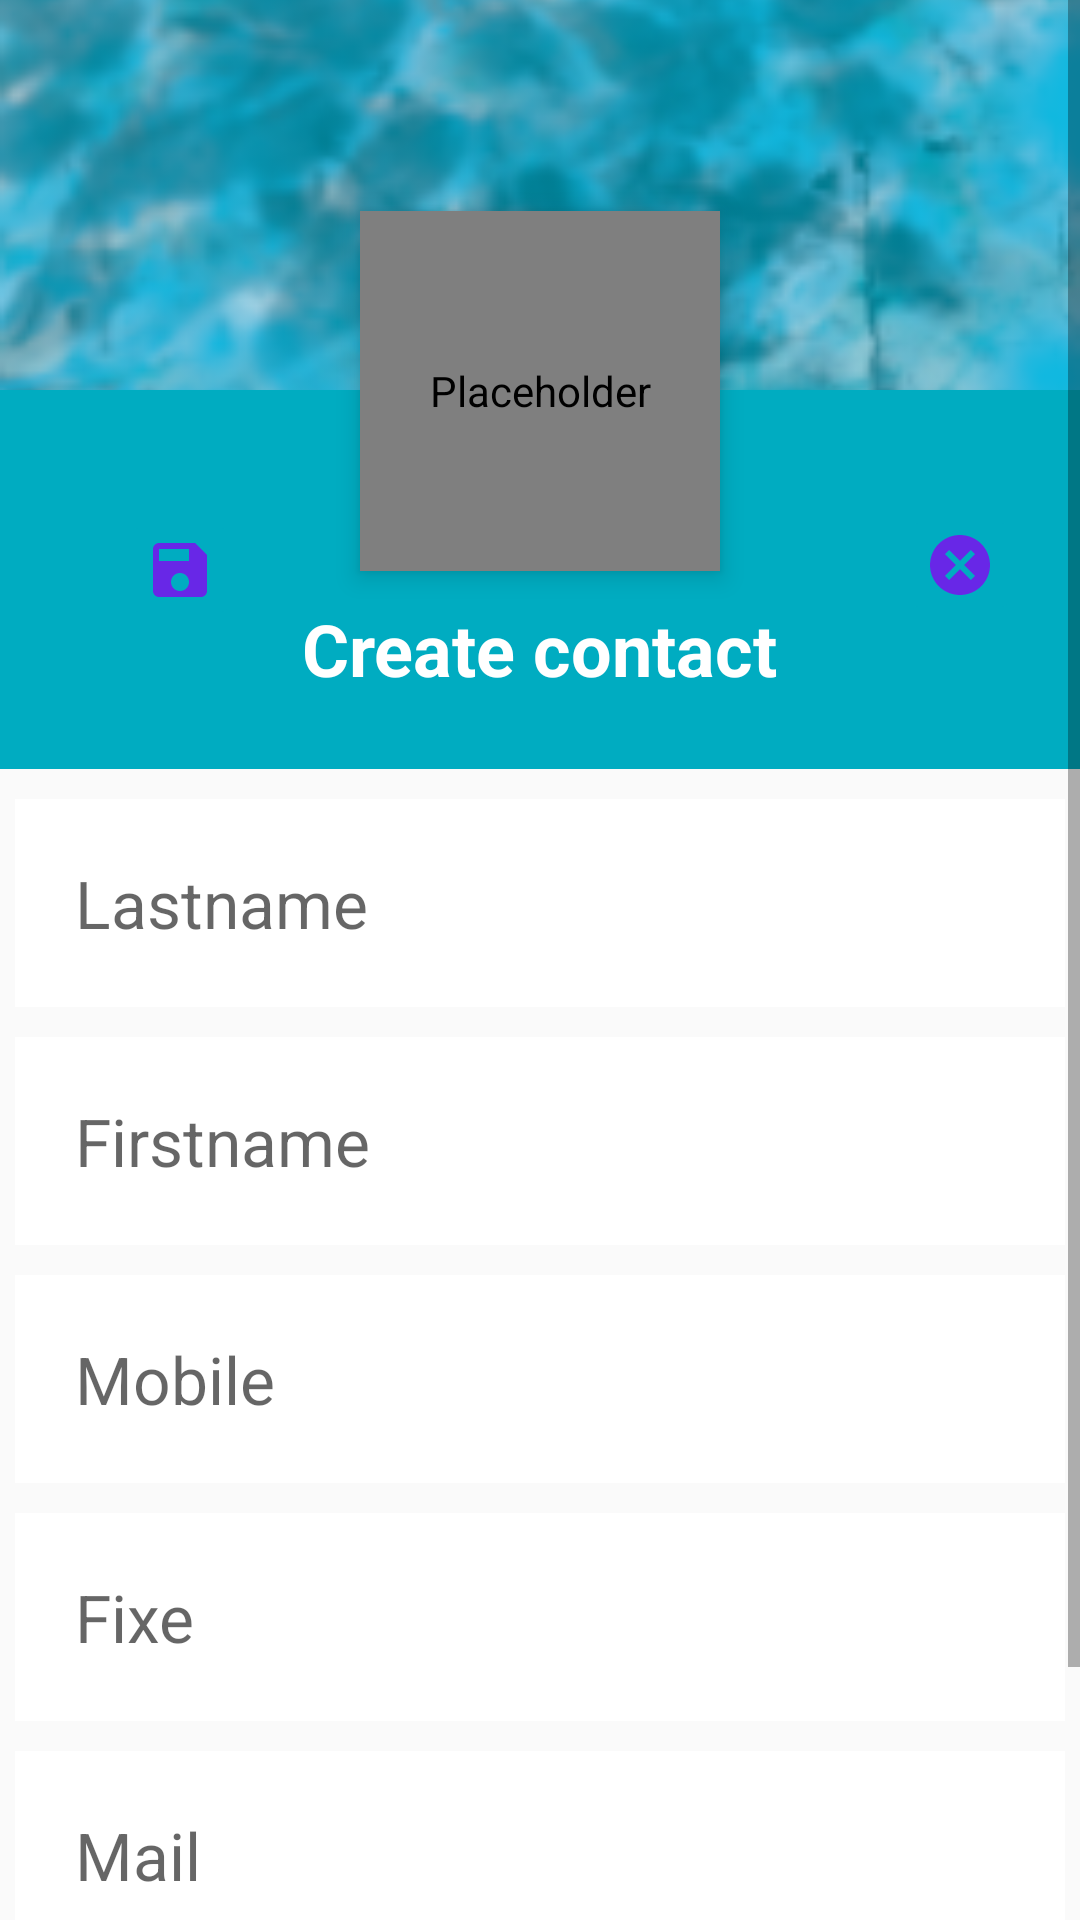

Icons on this 1080×1920 Android screen, each with its box as BBox(x1, y1, x2, y2):
Cancel: BBox(930, 535, 990, 595)
save: BBox(153, 543, 207, 597)
